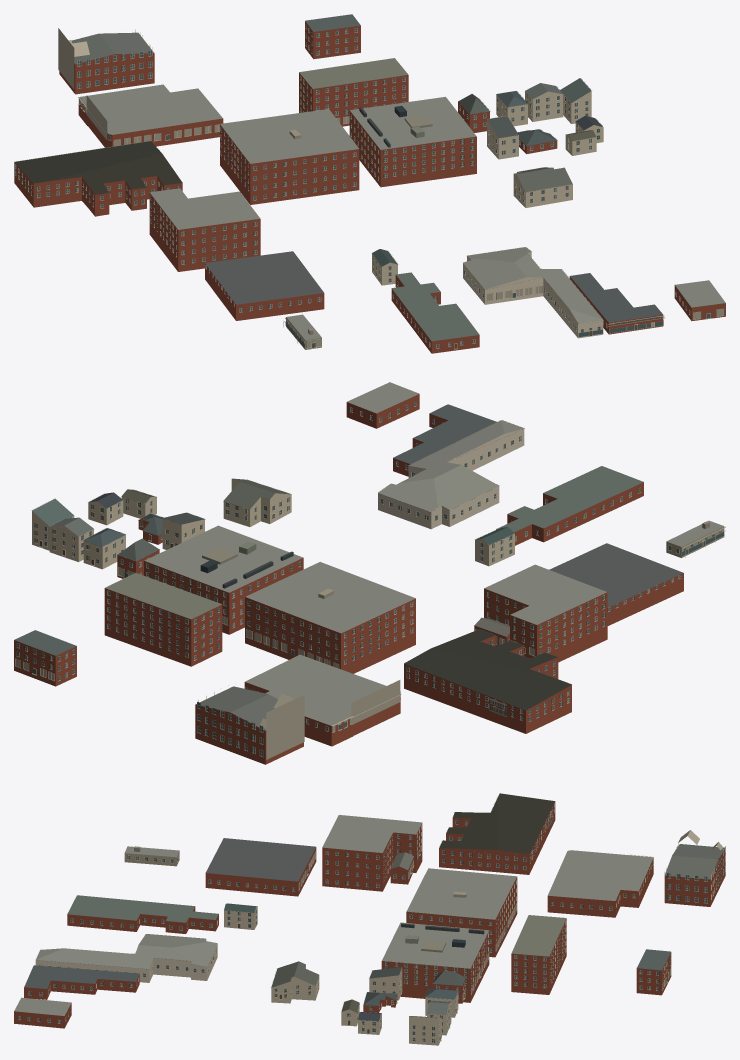
The picture shows the model from 3 angles, top to bottom: view 1: azimuth 30°, elevation 25°; view 2: azimuth 150°, elevation 25°; view 3: azimuth 270°, elevation 25°; orthographic projection. The views are drawn at different scales.
Parts seen in each view (by area): view 1: 0_0_269018238_0, 0_0_269018541_1, 0_0_599497824_38; view 2: 0_0_269018238_0, 0_0_269018541_1, 0_0_599497824_38; view 3: 0_0_269018238_0, 0_0_269018541_1, 0_0_599497824_38, 0_0_790036967_158.
Boxes of the visible parts, left/top/right/bottom form: 0_0_269018238_0: left=14, top=14, right=725, bottom=353; 0_0_269018541_1: left=294, top=91, right=637, bottom=348; 0_0_599497824_38: left=463, top=252, right=603, bottom=338; 0_0_269018238_0: left=14, top=382, right=725, bottom=764; 0_0_269018541_1: left=32, top=478, right=704, bottom=714; 0_0_599497824_38: left=378, top=428, right=524, bottom=529; 0_0_269018238_0: left=14, top=793, right=725, bottom=1042; 0_0_269018541_1: left=224, top=818, right=551, bottom=1045; 0_0_599497824_38: left=35, top=939, right=217, bottom=982; 0_0_790036967_158: left=124, top=851, right=179, bottom=866.
Bounding box in the file's own units: 242 × 32.68 × 317.
